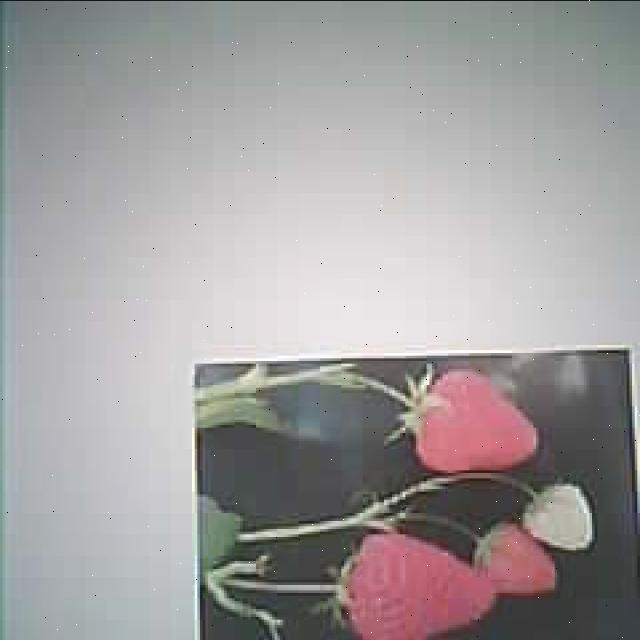ripe: (354, 534, 494, 640), (416, 368, 540, 467), (476, 524, 559, 592)
unripe: (522, 480, 594, 547)
